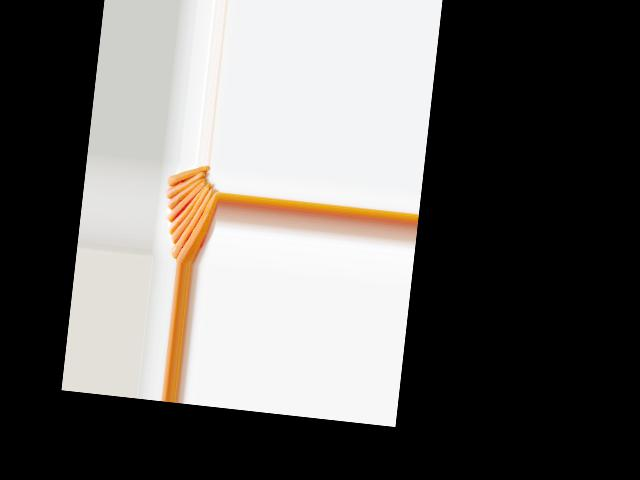carrot: (177, 189, 218, 266)
